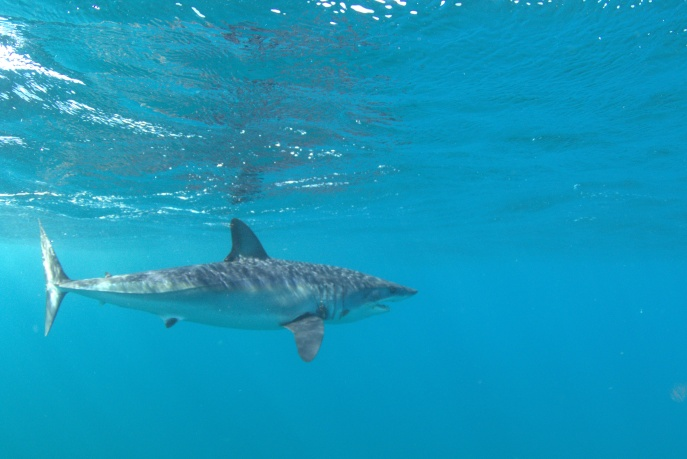Mako: (21, 206, 431, 371)
